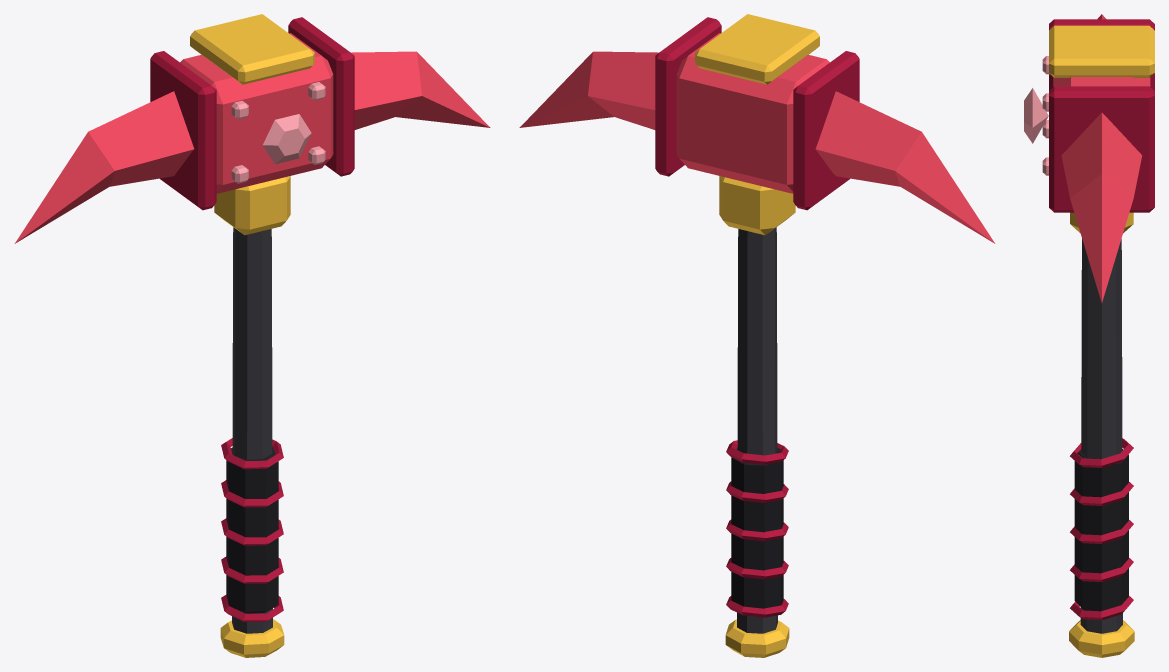
The model's file is RubyHeavyPickaxe.fbx.
The picture shows the model from 3 angles, left to right: view 1: azimuth 30°, elevation 25°; view 2: azimuth 150°, elevation 25°; view 3: azimuth 270°, elevation 25°; orthographic projection.
Visible parts, largest first — view 1: RubyHeavyPickaxe; view 2: RubyHeavyPickaxe; view 3: RubyHeavyPickaxe.
Boxes of the visible parts, x1=… form: RubyHeavyPickaxe: x1=14, y1=14, x2=490, y2=657; RubyHeavyPickaxe: x1=519, y1=14, x2=995, y2=657; RubyHeavyPickaxe: x1=1024, y1=14, x2=1154, y2=657.
Size of the model in its own units: 3.1 by 3.78 by 0.74.
Materials: 1 (1 with a texture image).
